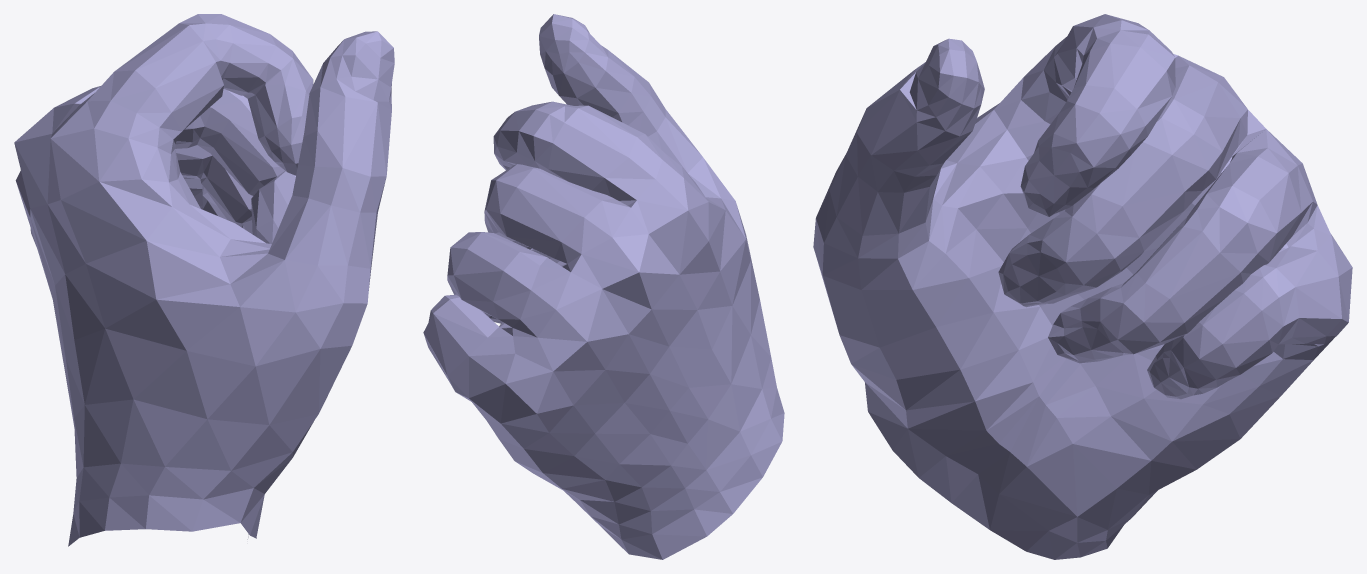
Rendered from frame_0011_source_000011_hand.glb.
3 views of the same model, side by side, from view 1: azimuth 30°, elevation 25°; view 2: azimuth 150°, elevation 25°; view 3: azimuth 270°, elevation 25° (orthographic). The views are drawn at different scales.
Visible parts, largest first — view 1: world; view 2: world; view 3: world.
Part boxes in pixels (x1,y1,x2,y2): world: (14, 14, 394, 546); world: (423, 14, 784, 559); world: (813, 14, 1352, 559).
Size of the model in its own units: 0.0664 by 0.12 by 0.1004.
